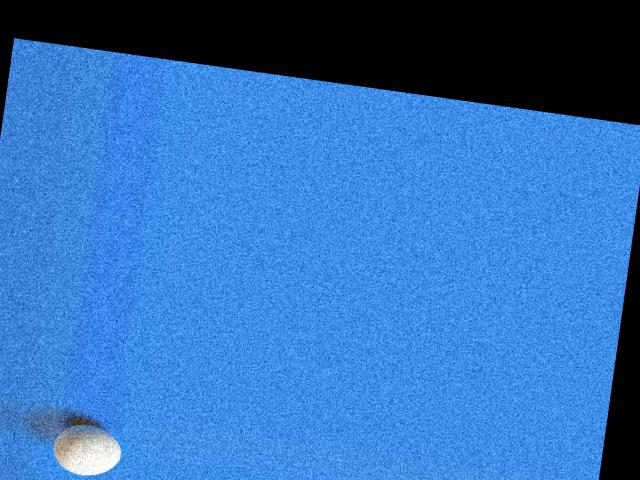egg: (49, 419, 124, 479)
